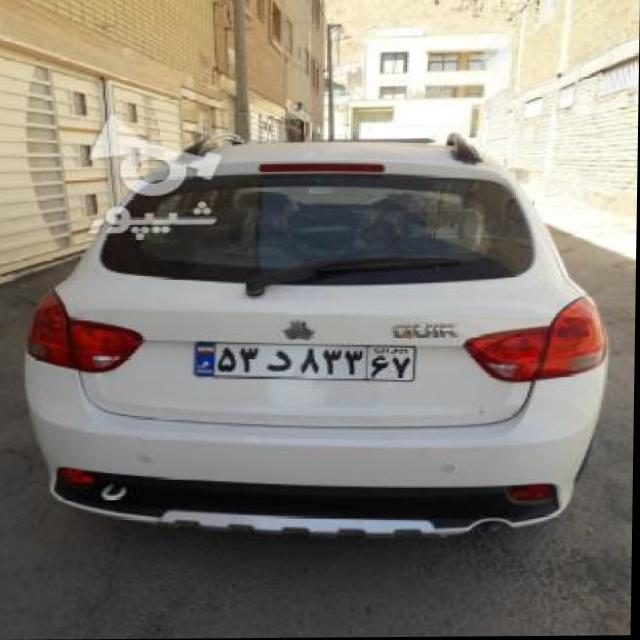licence: (190, 336, 418, 385)
